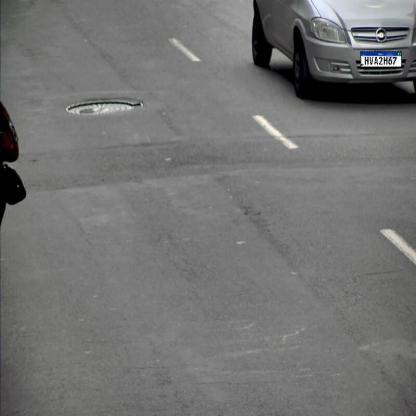PlacaM: (360, 51, 402, 67)
